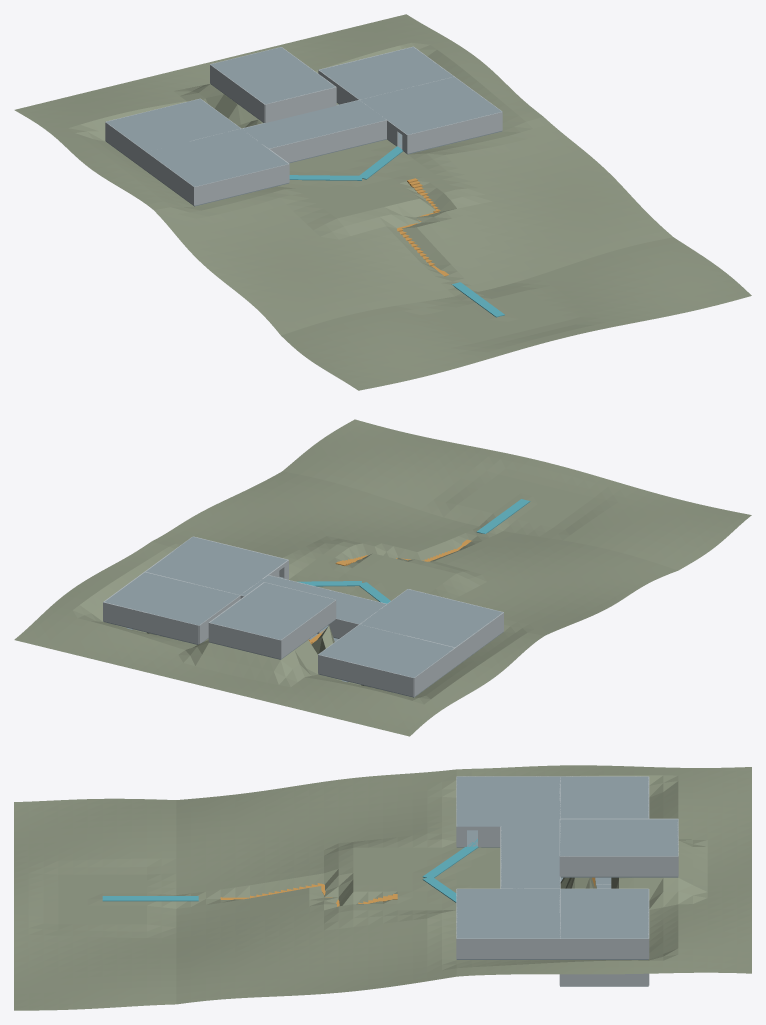
File: furnished.glb
3 views of the same model, one above another, from view 1: azimuth 30°, elevation 25°; view 2: azimuth 150°, elevation 25°; view 3: azimuth 270°, elevation 25° (orthographic). The views are drawn at different scales.
Parts seen in each view (by area): view 1: Authored battery terrain, Ceiling cap east, Ceiling cap west, Ceiling cap magazine, Ceiling cap director, Ceiling cap service, Ceiling cap gallery, Wall gallery S, Wall east S, Wall west S, Wall director S, Wall director W (+2 smaller); view 2: Authored battery terrain, Ceiling cap west, Ceiling cap east, Ceiling cap magazine, Ceiling cap director, Ceiling cap service, Wall service N, Wall magazine N, Ceiling cap gallery, Wall director N, Wall director W, Wall west W (+1 smaller); view 3: Authored battery terrain, Ceiling cap west, Ceiling cap east, Ceiling cap director, Ceiling cap service, Ceiling cap magazine, Ceiling cap gallery, Wall director E, Wall east E, Wall service E, Wall plant E, route-01 support 0 (+2 smaller).
Boxes of the visible parts, x1,y1,x2,y2 form: Authored battery terrain: (14,14,751,390); Ceiling cap east: (360,77,501,134); Ceiling cap west: (147,129,288,186); Ceiling cap magazine: (106,99,240,151); Ceiling cap director: (210,47,334,104); Ceiling cap service: (319,47,453,99); Ceiling cap gallery: (241,100,385,148); Wall gallery S: (269,120,386,162); Wall east S: (407,112,502,153); Wall west S: (194,164,289,205); Wall director S: (265,87,336,122); Wall director W: (210,64,264,122); Authored battery terrain: (14,419,751,736); Ceiling cap west: (360,589,503,647); Ceiling cap east: (146,537,287,594); Ceiling cap magazine: (319,624,454,677); Ceiling cap director: (210,582,335,639); Ceiling cap service: (104,572,239,625); Wall service N: (103,602,198,644); Wall magazine N: (318,654,413,696); Ceiling cap gallery: (241,575,386,624); Wall director N: (209,622,280,658); Wall director W: (280,600,336,658); Wall west W: (455,612,503,665); Authored battery terrain: (14,765,751,1010); Ceiling cap west: (456,776,559,826); Ceiling cap east: (456,889,559,938); Ceiling cap director: (560,819,678,856); Ceiling cap service: (560,889,648,938); Ceiling cap magazine: (560,776,648,818); Ceiling cap gallery: (501,826,559,888); Wall director E: (560,856,678,876); Wall east E: (456,938,559,958); Wall service E: (560,938,648,958); Wall plant E: (560,973,648,985); route-01 support 0: (102,896,198,901).
Size of the model in its own units: 67.8 by 10.7 by 100.
